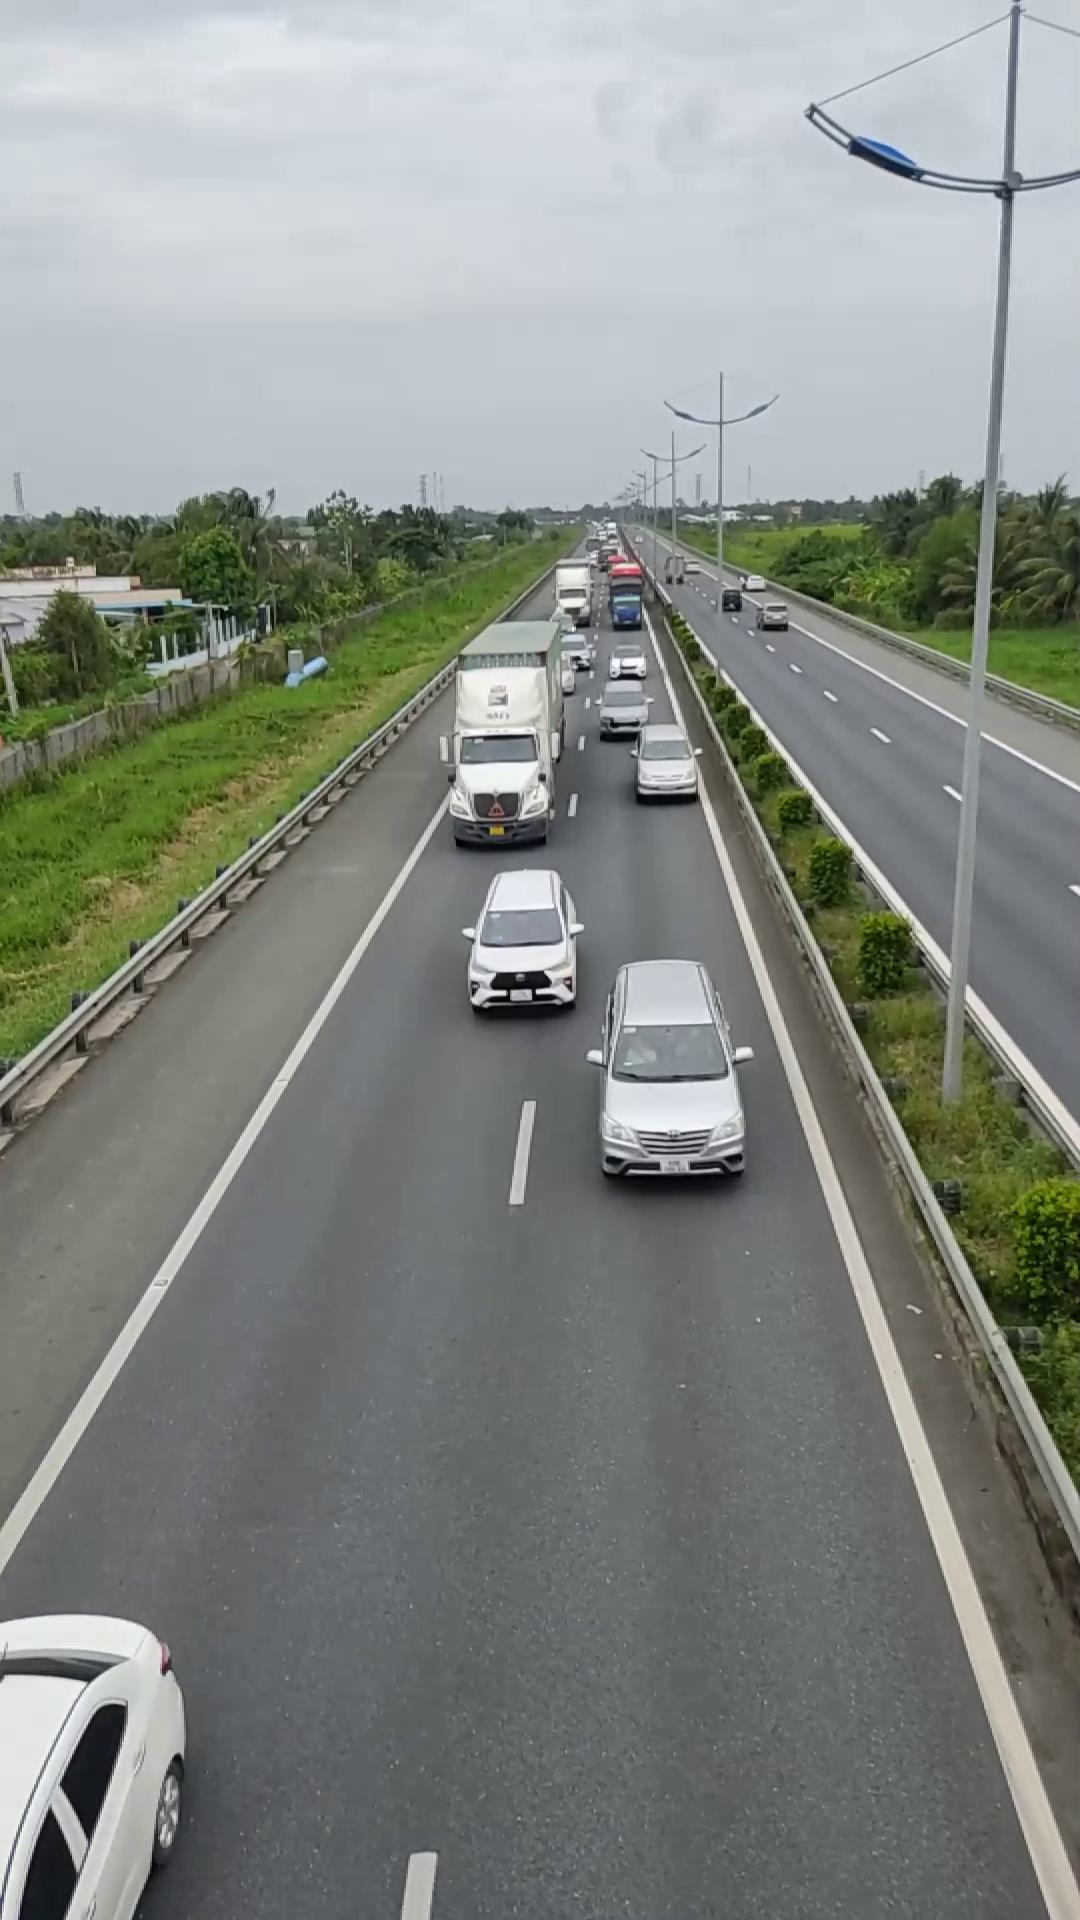car: (0, 1611, 191, 1919), (589, 956, 748, 1183), (463, 866, 584, 1012), (632, 725, 701, 800)
container: (443, 616, 572, 846)
